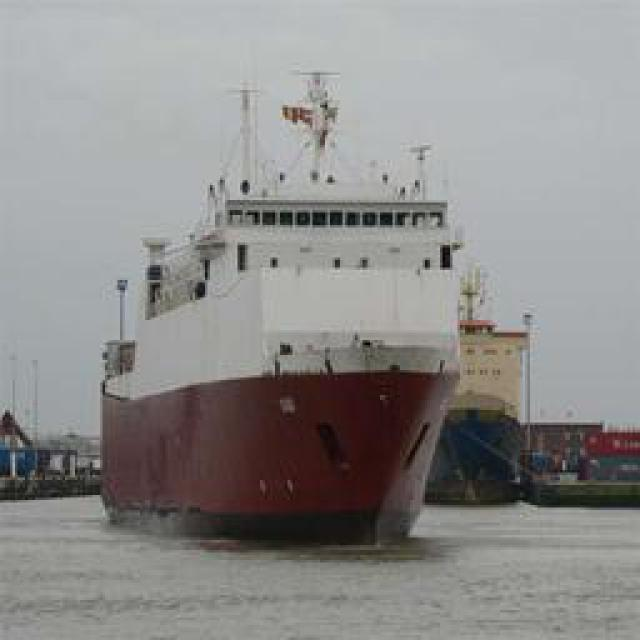Ship: (99, 53, 474, 541)
